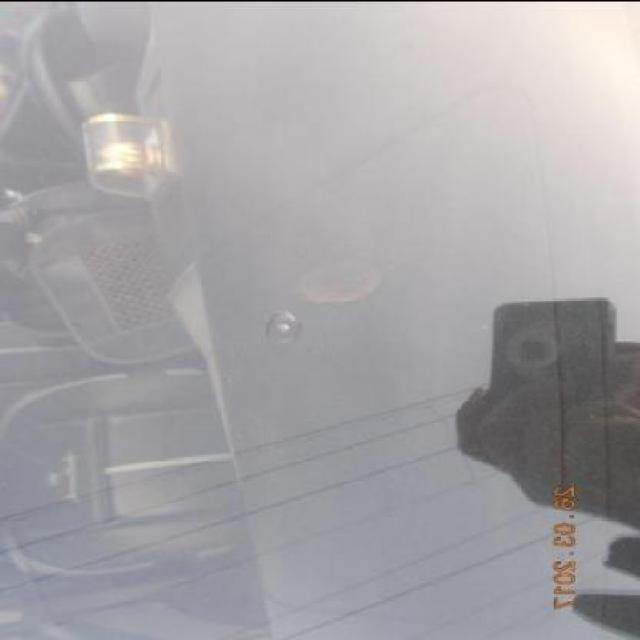damage: (258, 311, 309, 349)
